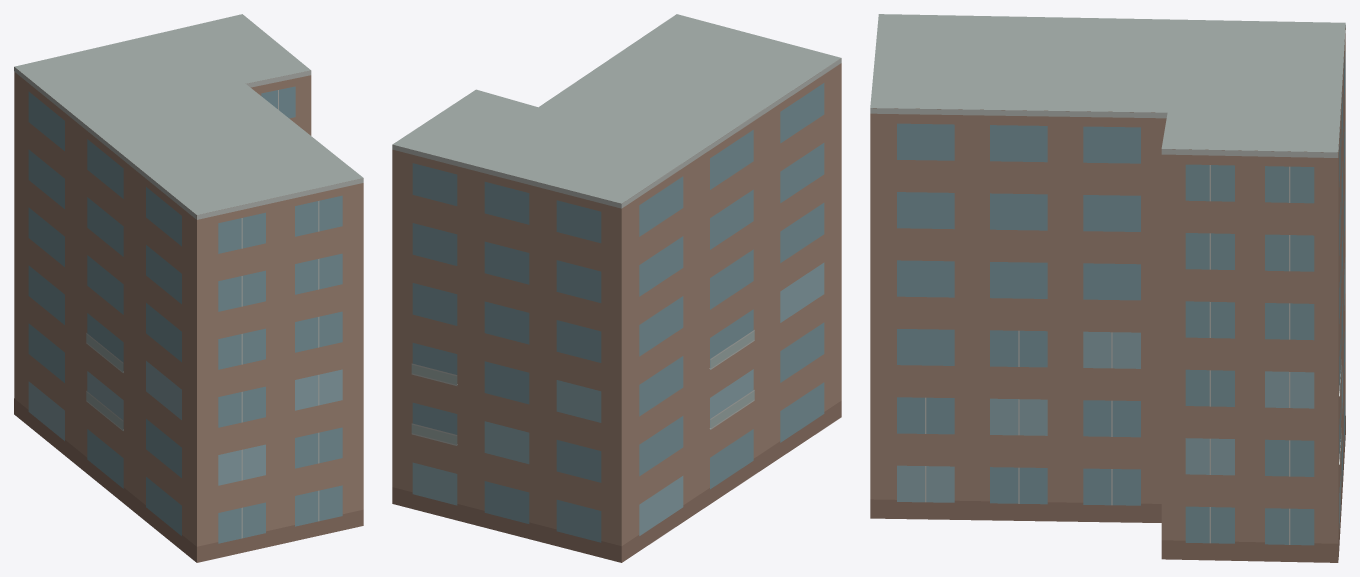
Rendered from survey-upis-32993268.glb.
The picture shows the model from 3 angles, left to right: view 1: azimuth 30°, elevation 25°; view 2: azimuth 150°, elevation 25°; view 3: azimuth 270°, elevation 25°; orthographic projection. The views are drawn at different scales.
Parts seen in each view (by area): view 1: survey-upis-32993268.tmp; view 2: survey-upis-32993268.tmp; view 3: survey-upis-32993268.tmp.
Boxes of the visible parts, x1,y1,x2,y2 form: survey-upis-32993268.tmp: (14, 14, 363, 562); survey-upis-32993268.tmp: (392, 14, 841, 562); survey-upis-32993268.tmp: (870, 14, 1345, 562).
Bounding box in the file's own units: 12.74 × 17.6 × 18.49.
